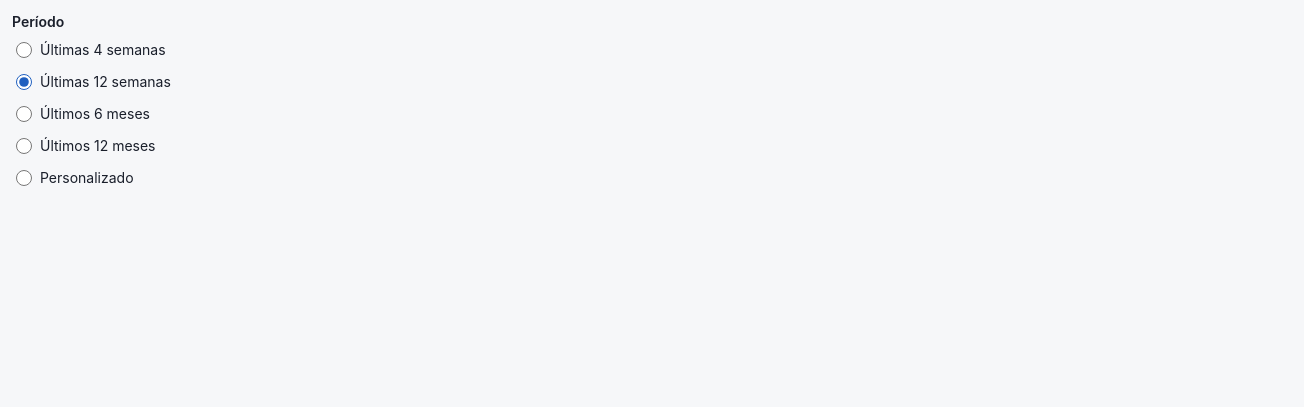
Test: FiltroPeriodo › exibe e limpa a mensagem de erro ao voltar para um período fixo
Click the radio button labelled "Personalizado" at (24, 178), box [16,170,32,186]
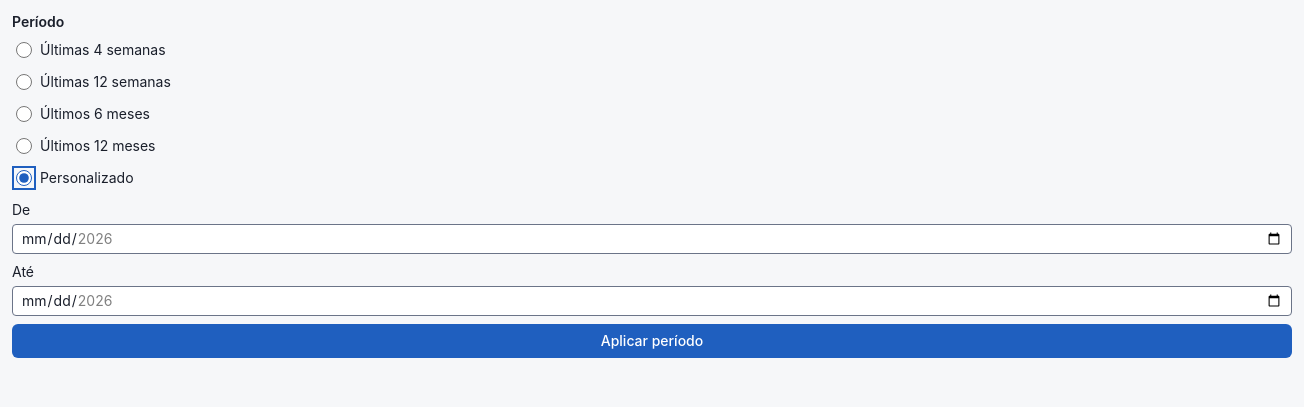
Type "2025-01-01" into the date field labelled "De" at (652, 239), box [12,224,1292,254]
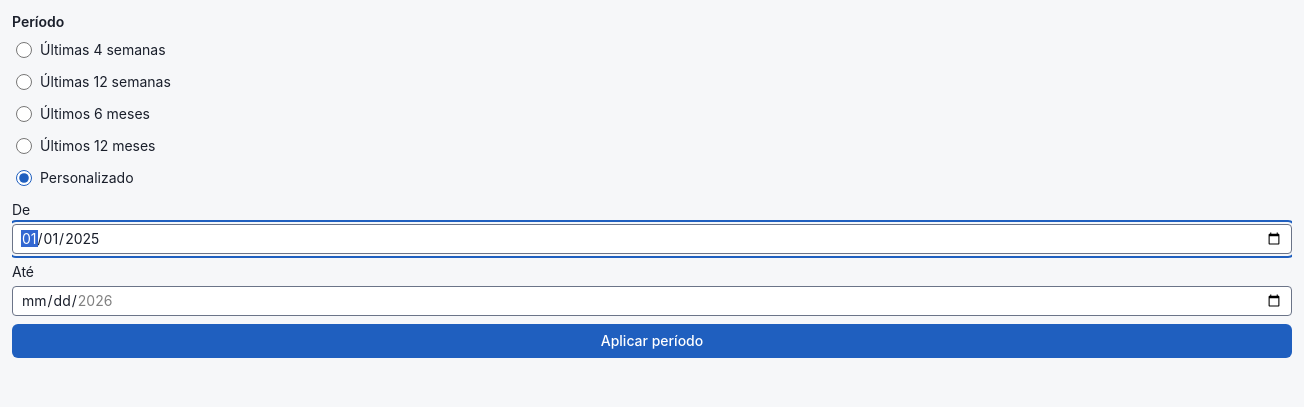
Type "2026-04-01" into the date field labelled "Até" at (652, 301), box [12,286,1292,316]
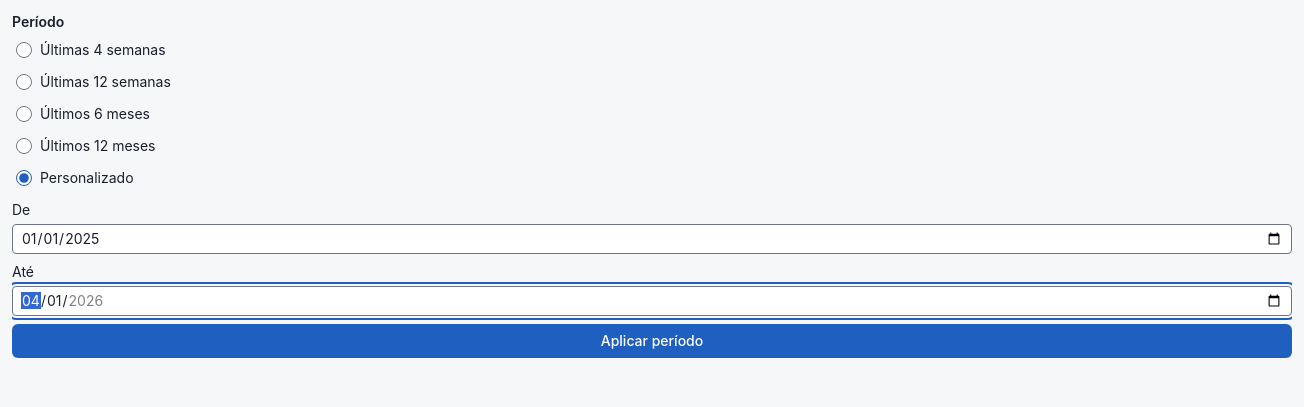
Click the button "Aplicar período" at (652, 341), box [12,324,1292,358]
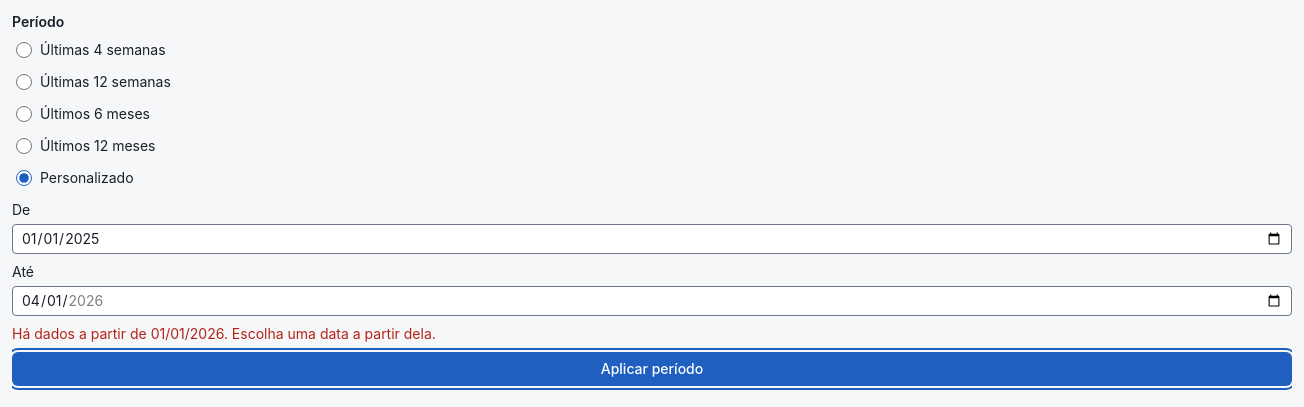
Expected: the message shows "Há dados a partir de 01/01/2026", [12,325,436,342]
Click the radio button labelled "Últimas 4 semanas" at (24, 50), box [16,42,32,58]
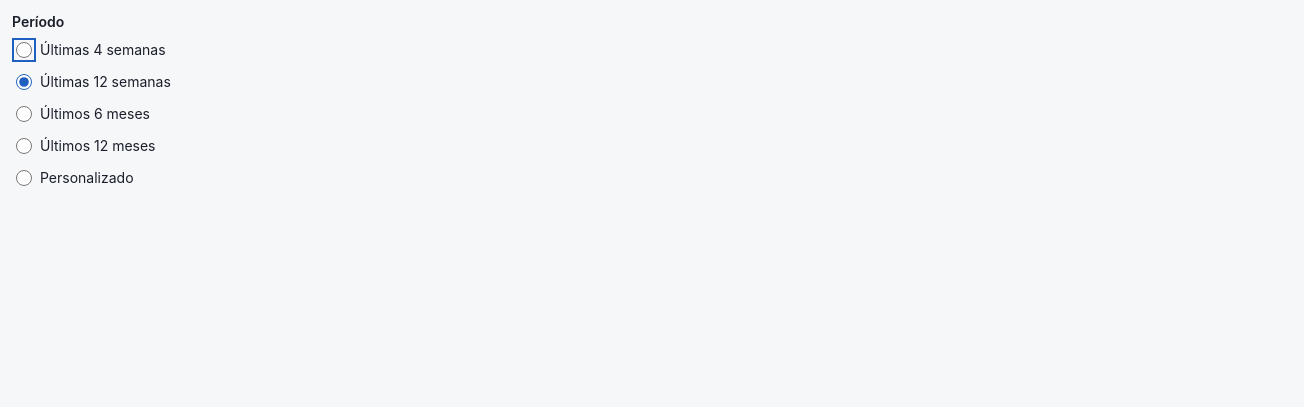
Expected: the message "Há dados a partir de 01/01/2026. Escolha uma data a partir dela." is gone
